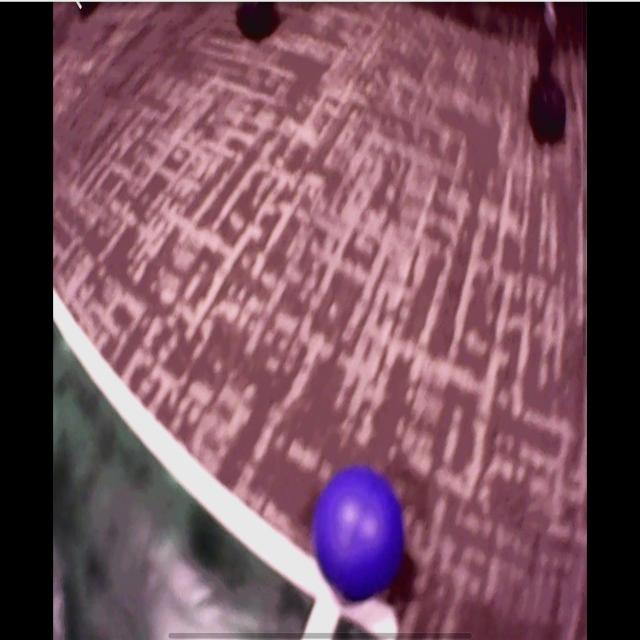ball: (315, 468, 406, 603)
